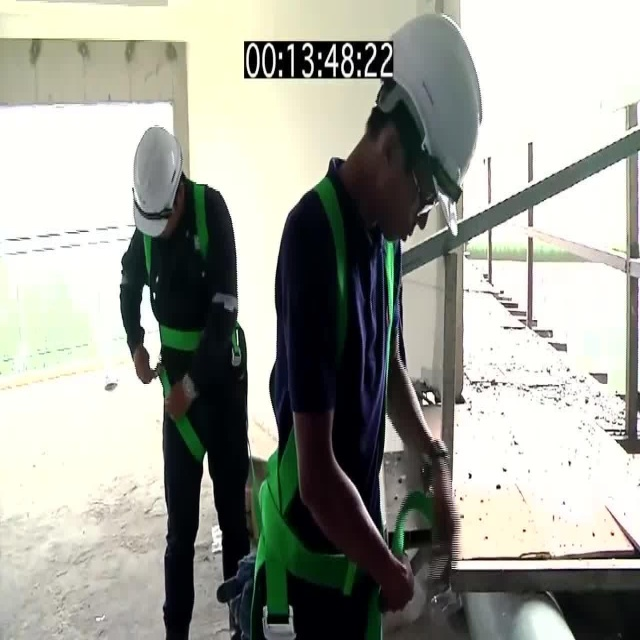Arnes_seguridad: (257, 168, 399, 632), (143, 180, 242, 460)
